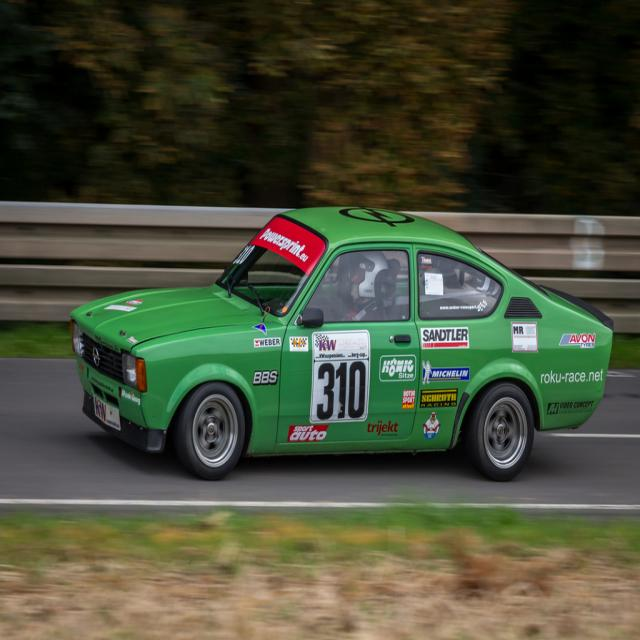car: (67, 207, 595, 469)
